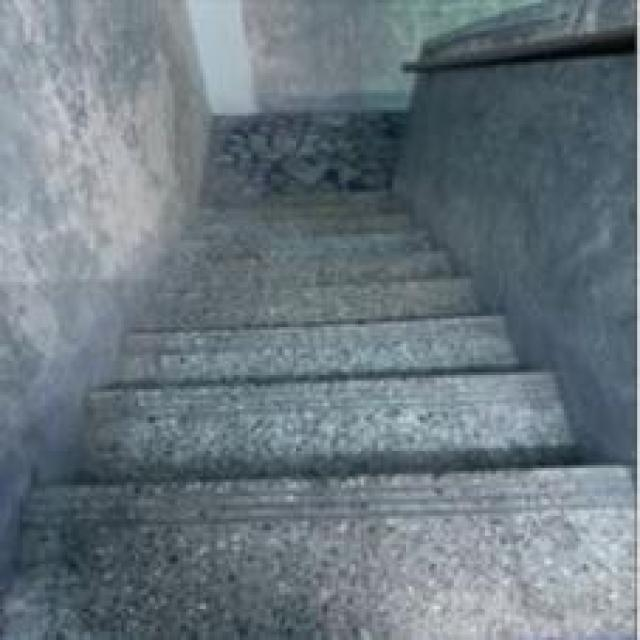downstair: (32, 334, 596, 534)
